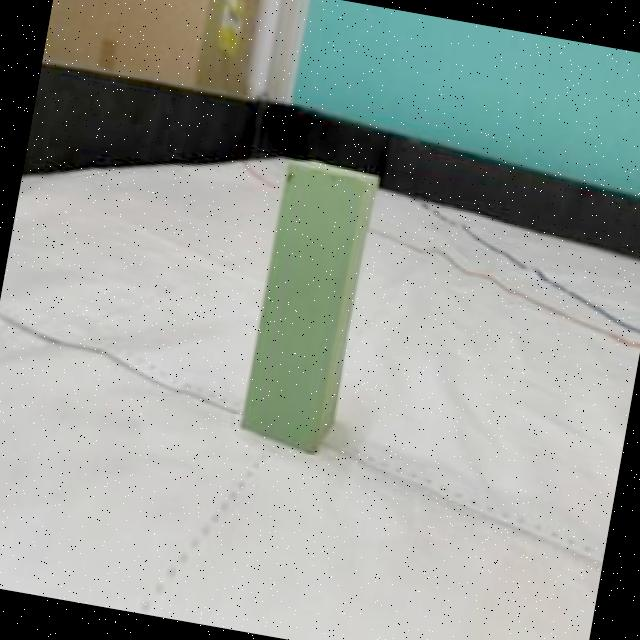greenbox: (236, 154, 380, 456)
